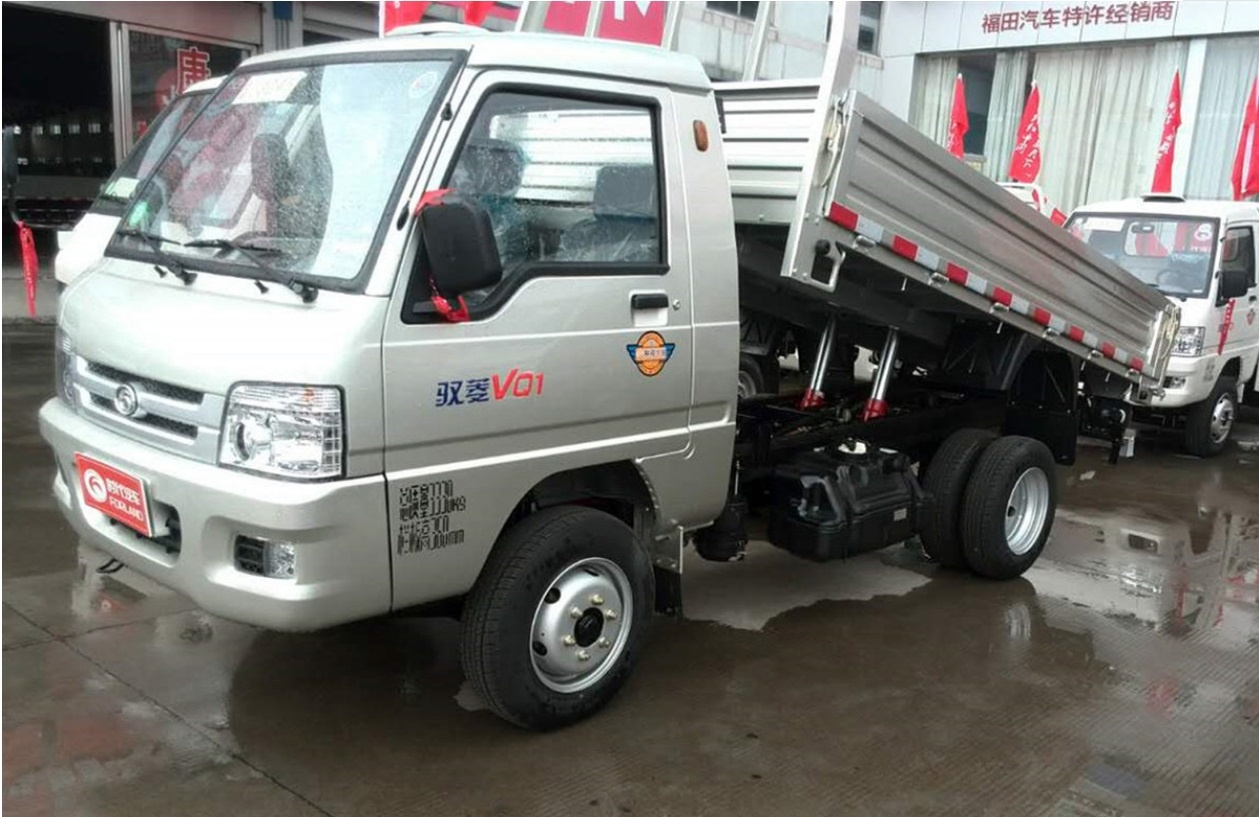truck: (45, 36, 1171, 690)
